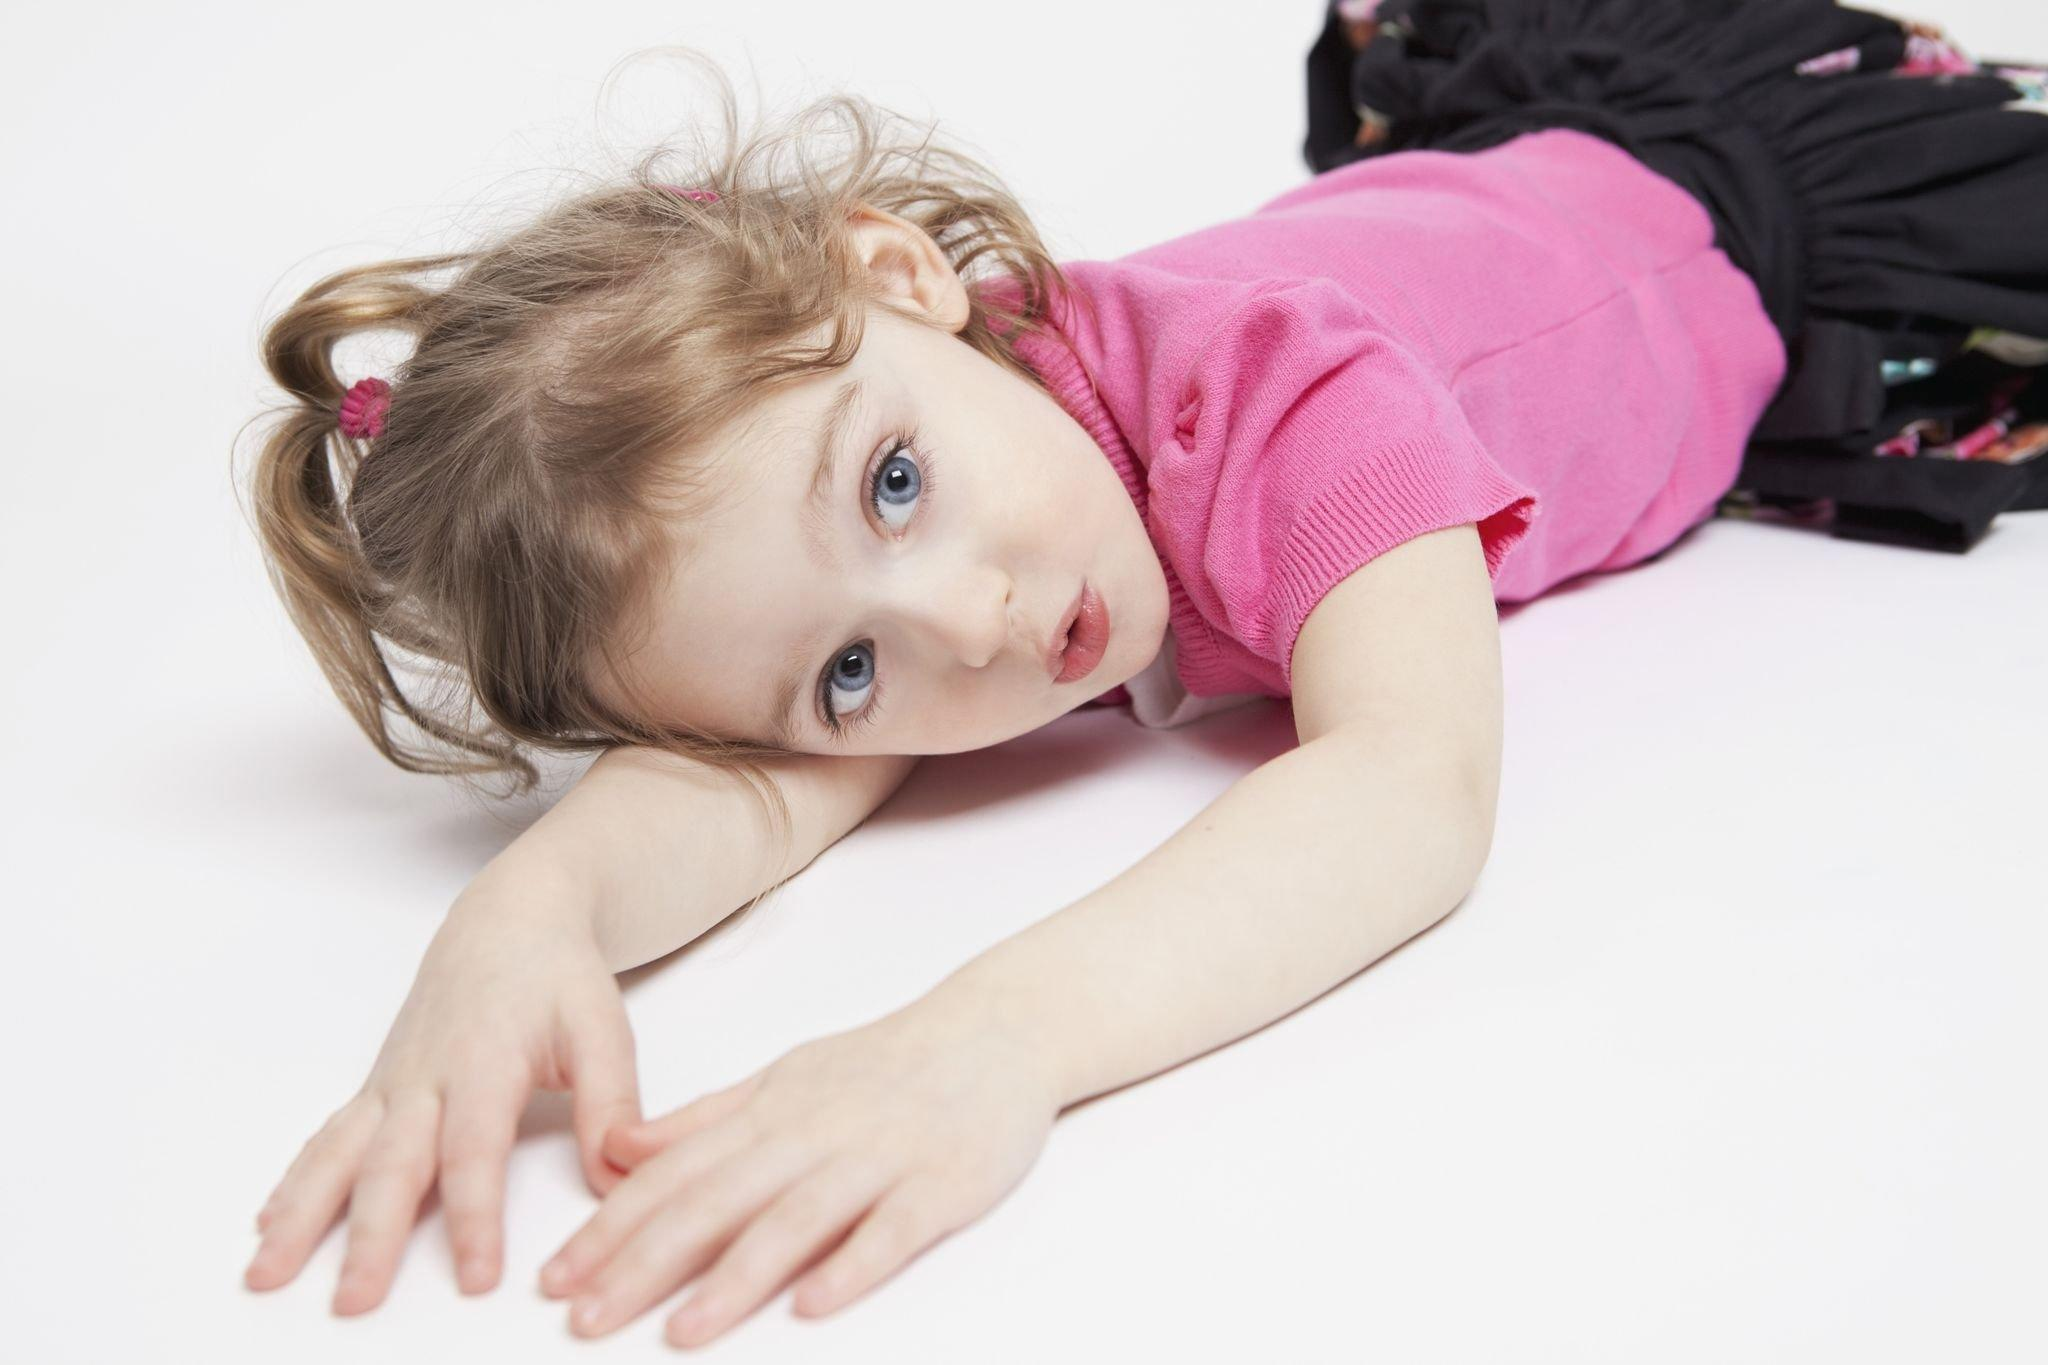Healthy: (516, 236, 1183, 809)
